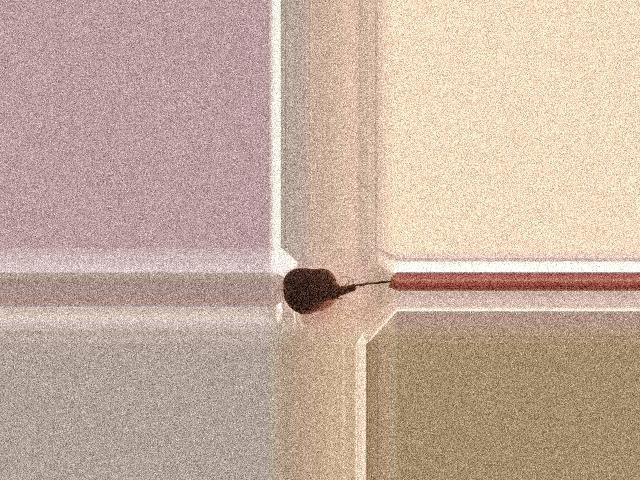beet: (283, 268, 392, 314)
